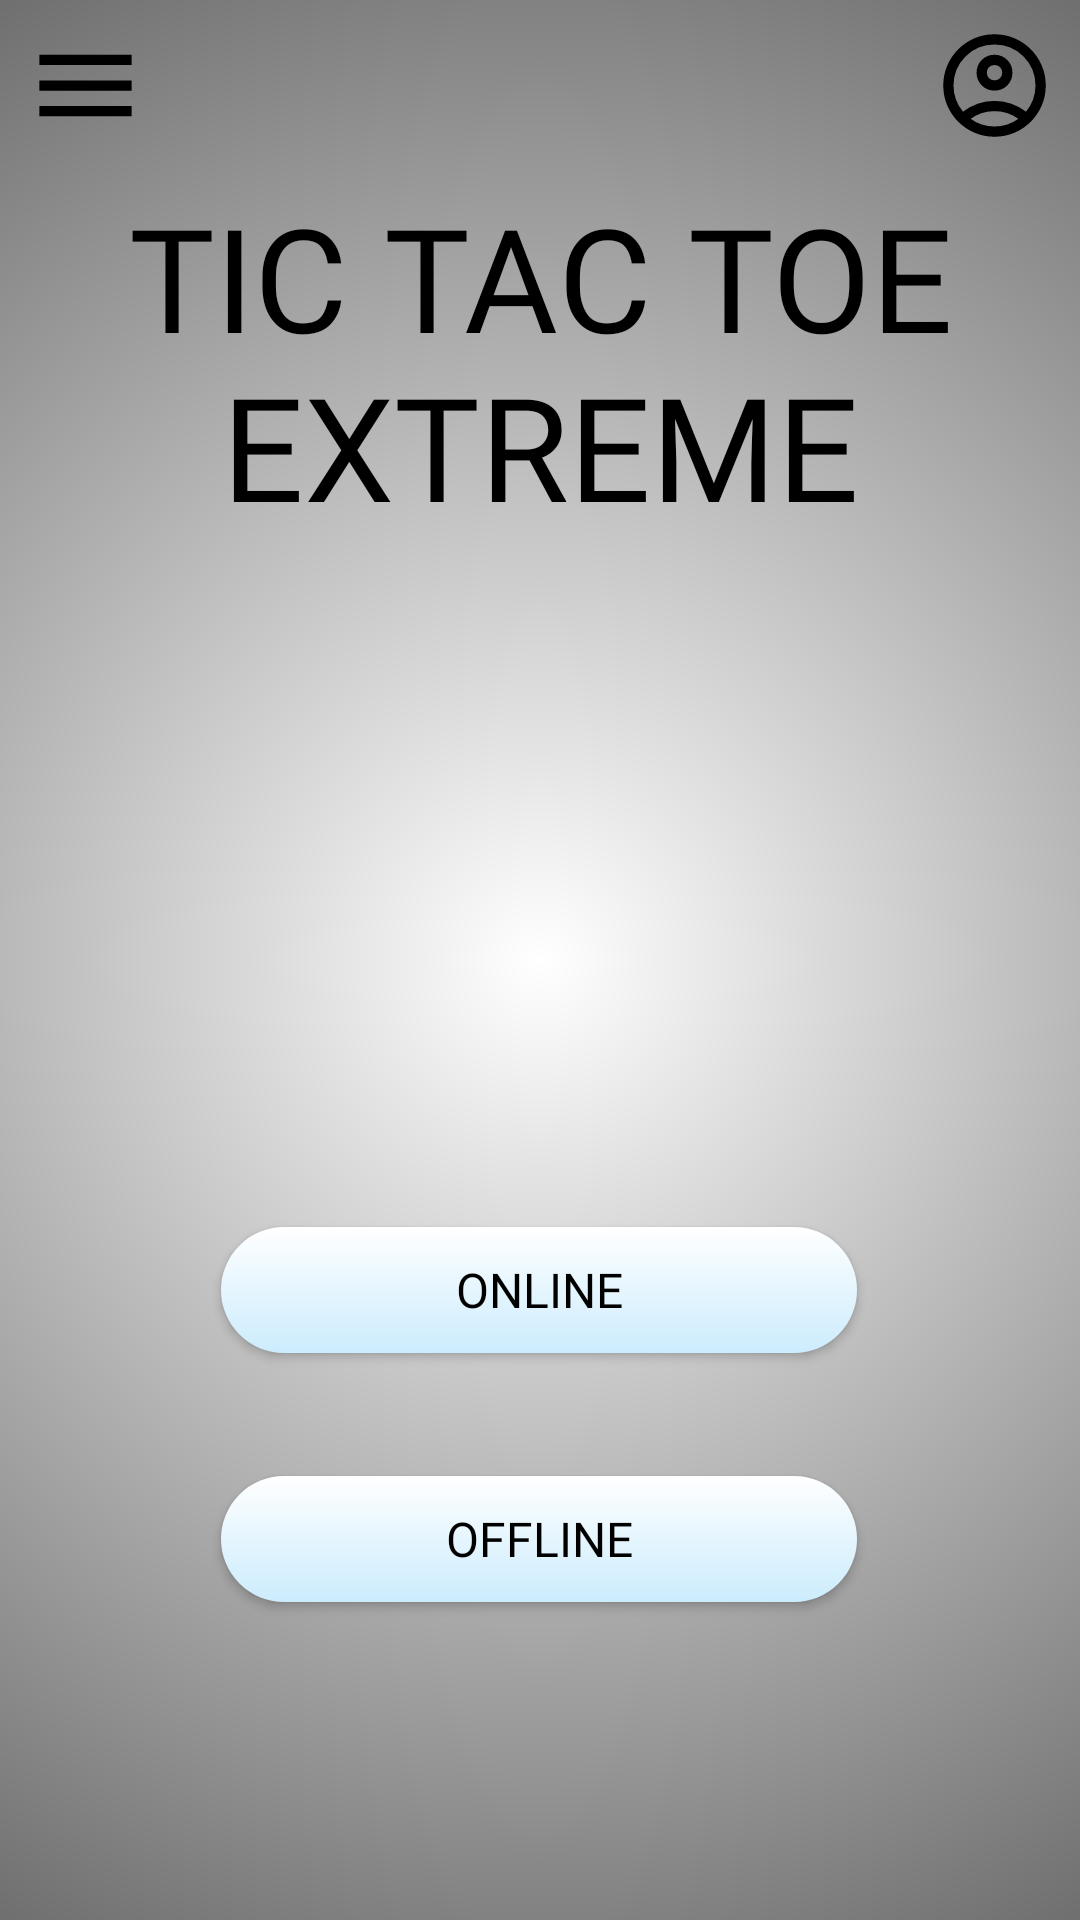

Locate icon controls on the screen. Image size 1080px x 1920px, boxes as (x1, y1, x2, y2).
account: (943, 34, 1046, 137)
menu: (39, 54, 132, 117)
